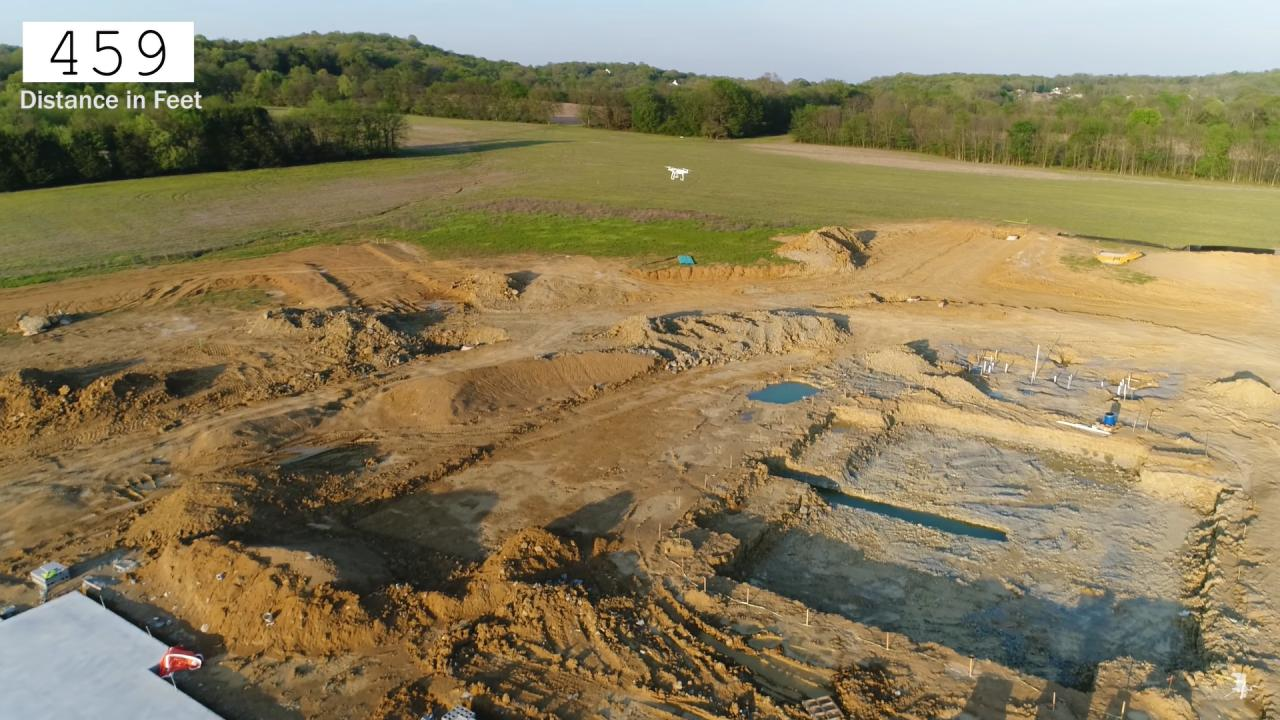Drone: (656, 158, 700, 190)
